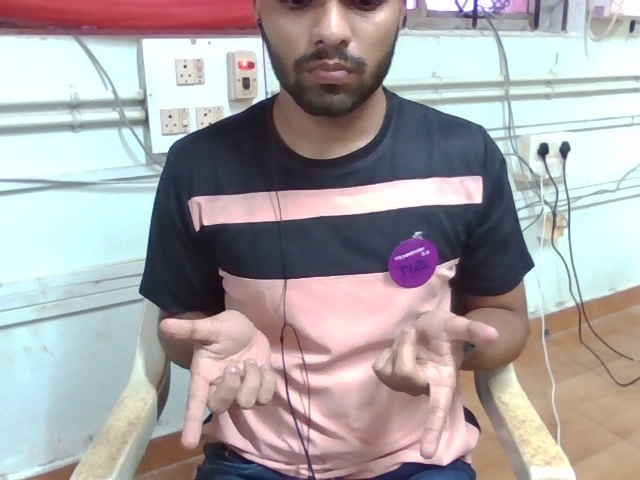go: (149, 296, 504, 474)
